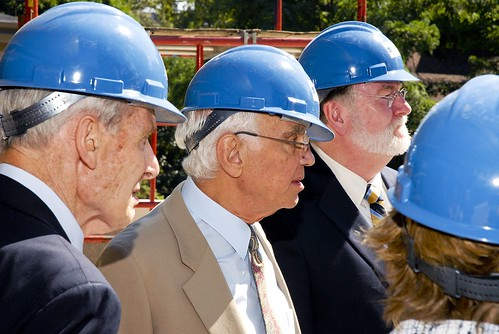person hardhat: (1, 1, 187, 229), (386, 71, 499, 317), (178, 45, 336, 210), (299, 21, 421, 157)
